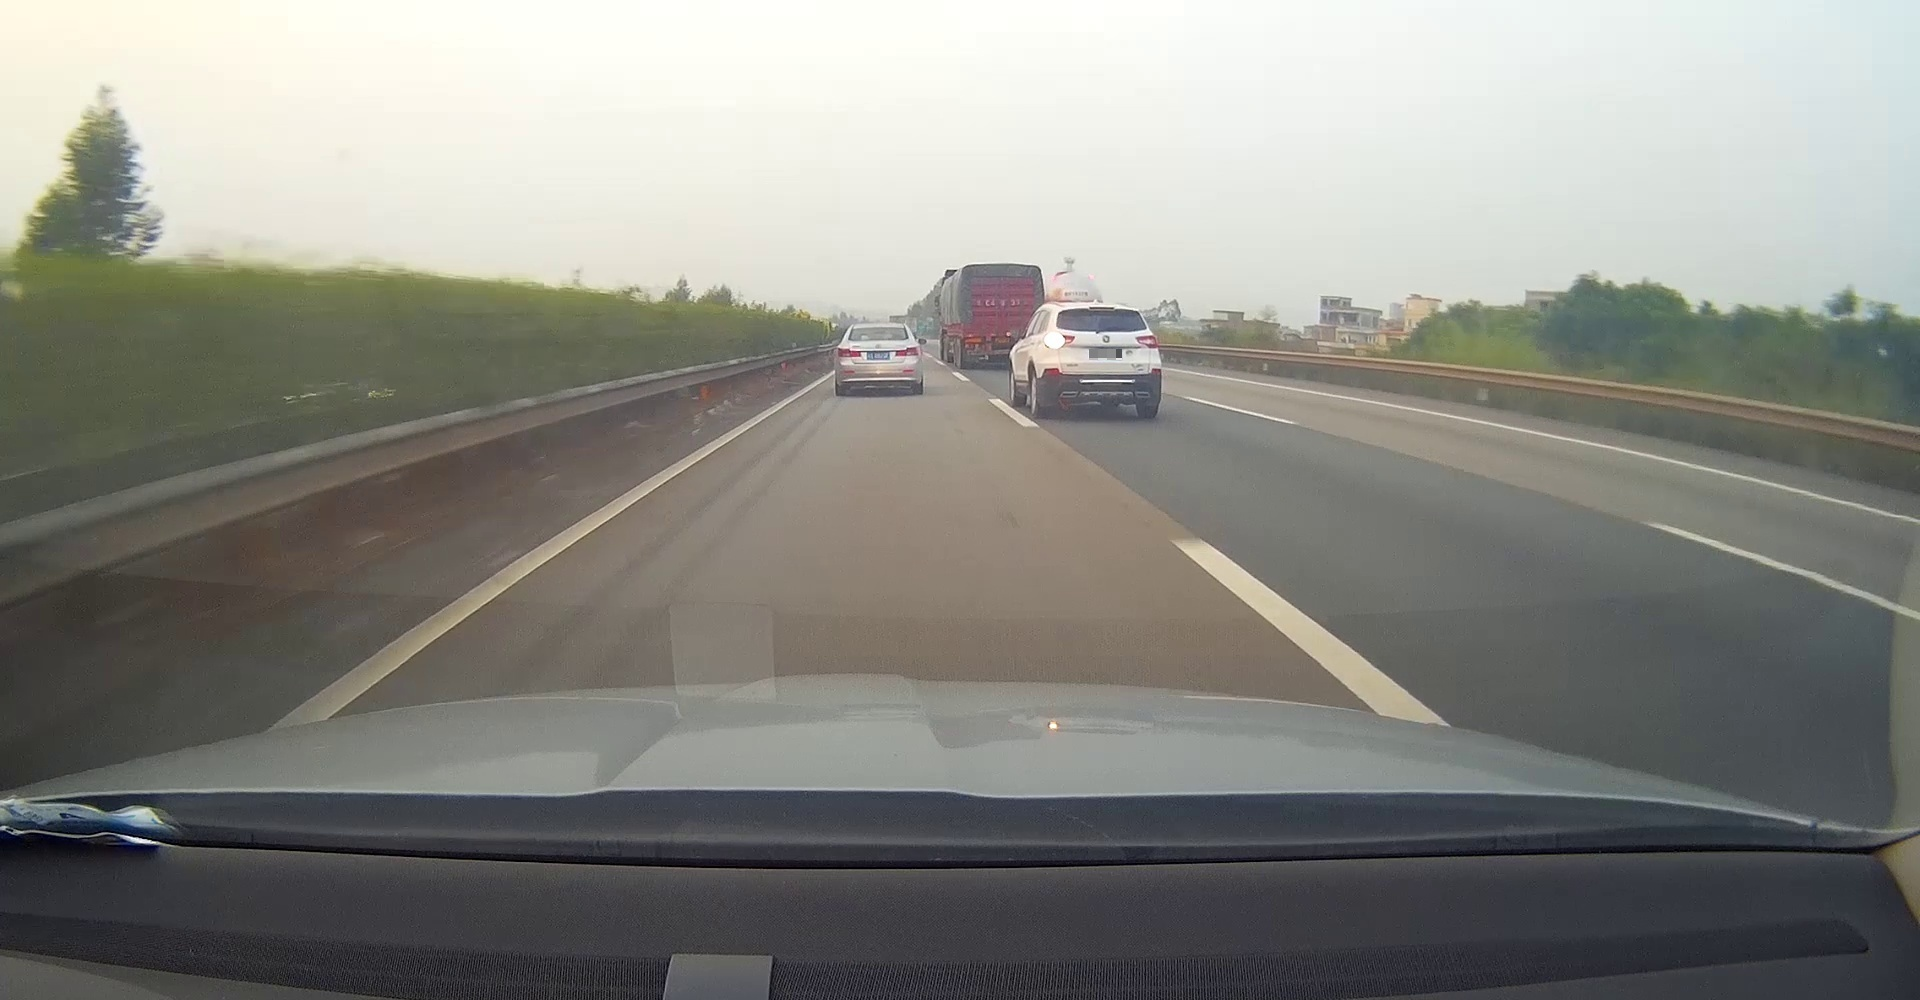L_light: (1043, 332, 1076, 348), (838, 348, 862, 358)
R_light: (1137, 335, 1158, 348), (895, 346, 918, 357)
T_light: (1090, 307, 1115, 311), (872, 326, 885, 329)
day-left: (1036, 305, 1161, 419)
day-no: (830, 321, 924, 396)
plate_1: (1090, 349, 1123, 360)
